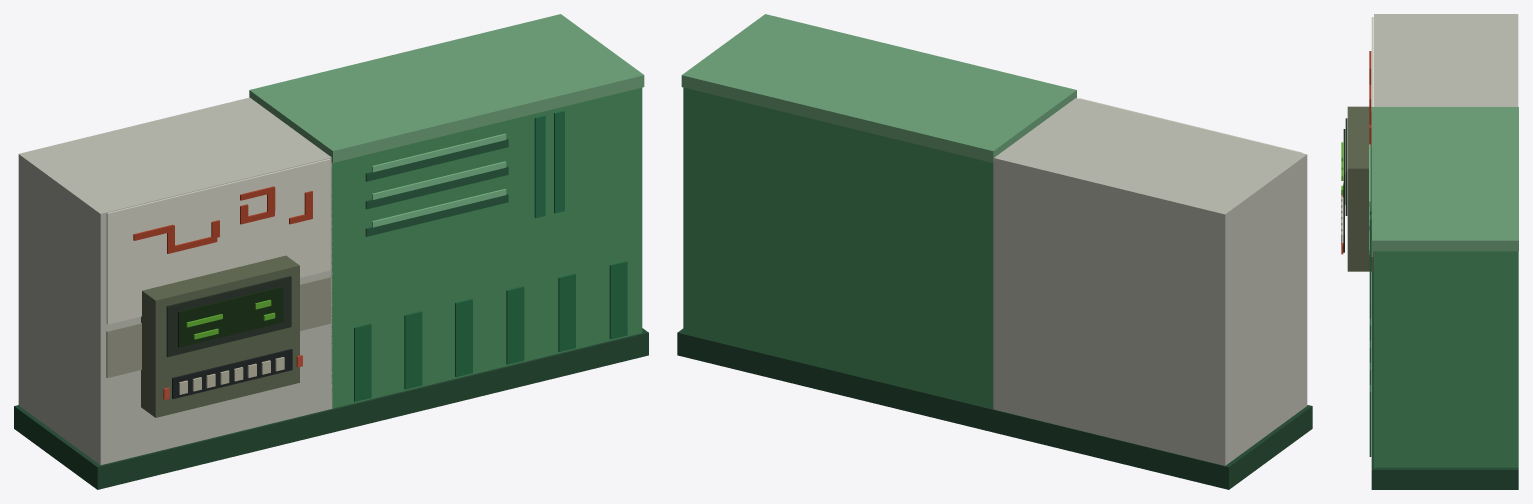
The model's file is CMU3DWideChemicalStorage.glb.
The picture shows the model from 3 angles, left to right: view 1: azimuth 30°, elevation 25°; view 2: azimuth 150°, elevation 25°; view 3: azimuth 270°, elevation 25°; orthographic projection. The views are drawn at different scales.
Visible parts, largest first — view 1: right green storage body, left chemical control case, top green housing lip, white upper front panel, chemical storage base, storage console projection, green lower cooling rib (×6), green radiator horizontal slot (×3), storage green monitor, left lower pale panel, radiator bright top edge (×3), storage small monitor bezel (+2 smaller); view 2: left chemical control case, right green storage body, top green housing lip, chemical storage base; view 3: right green storage body, top green housing lip, left chemical control case, chemical storage base, storage console projection, white upper front panel, storage small monitor bezel, upper green vertical rib, storage green monitor, green lower cooling rib.
Part boxes in pixels (x1=…): right green storage body: x1=331, y1=87, x2=642, y2=408; left chemical control case: x1=18, y1=97, x2=332, y2=465; top green housing lip: x1=249, y1=14, x2=644, y2=162; white upper front panel: x1=106, y1=158, x2=330, y2=324; chemical storage base: x1=14, y1=328, x2=648, y2=489; storage console projection: x1=141, y1=255, x2=299, y2=417; green lower cooling rib (×6): x1=354, y1=261, x2=627, y2=401; green radiator horizontal slot (×3): x1=365, y1=138, x2=508, y2=236; storage green monitor: x1=178, y1=286, x2=283, y2=347; left lower pale panel: x1=106, y1=276, x2=330, y2=377; radiator bright top edge (×3): x1=372, y1=133, x2=506, y2=227; storage small monitor bezel: x1=166, y1=276, x2=291, y2=357; left chemical control case: x1=993, y1=98, x2=1307, y2=465; right green storage body: x1=683, y1=87, x2=993, y2=409; top green housing lip: x1=681, y1=14, x2=1076, y2=162; chemical storage base: x1=677, y1=328, x2=1312, y2=489; right green storage body: x1=1374, y1=251, x2=1518, y2=467; top green housing lip: x1=1372, y1=107, x2=1518, y2=251; left chemical control case: x1=1374, y1=14, x2=1518, y2=106; chemical storage base: x1=1371, y1=251, x2=1518, y2=489; storage console projection: x1=1347, y1=106, x2=1373, y2=271; white upper front panel: x1=1371, y1=17, x2=1373, y2=209; storage small monitor bezel: x1=1345, y1=118, x2=1347, y2=215; upper green vertical rib: x1=1369, y1=215, x2=1371, y2=307; storage green monitor: x1=1343, y1=129, x2=1345, y2=204; green lower cooling rib: x1=1369, y1=385, x2=1371, y2=456.
Bounding box in the file's own units: 2 × 0.975 × 0.6356.
